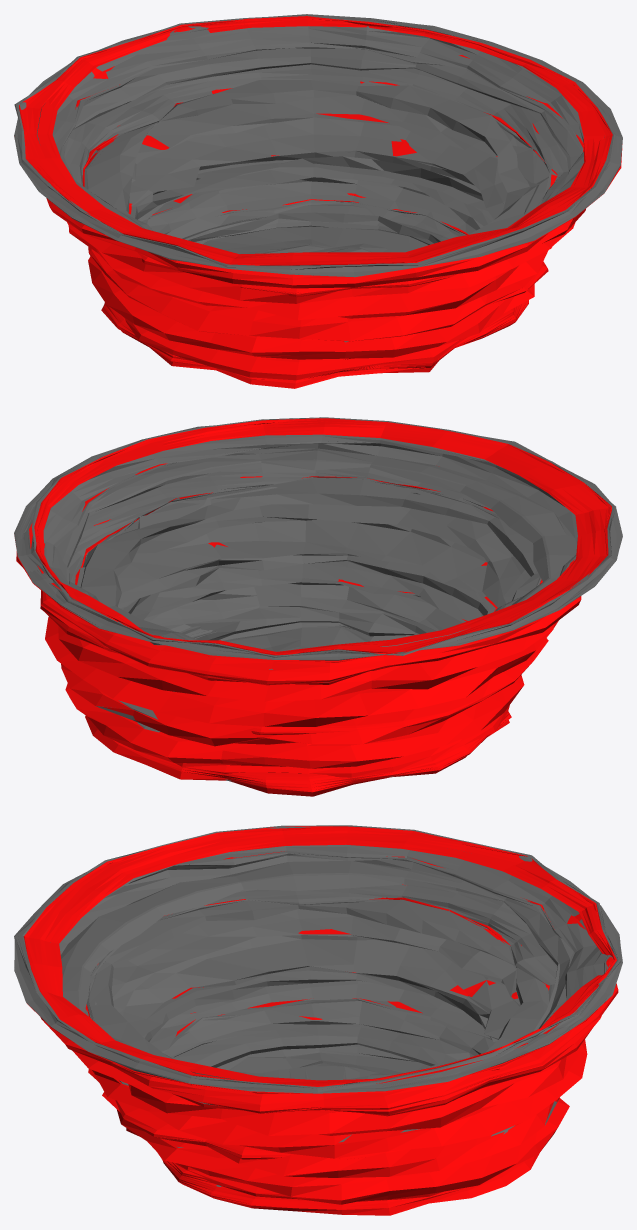
The model's file is crush_high_1.obj.
3 views of the same model, one above another, from view 1: azimuth 30°, elevation 25°; view 2: azimuth 150°, elevation 25°; view 3: azimuth 270°, elevation 25° (orthographic).
Visible parts, largest first — view 1: model; view 2: model; view 3: model.
Part boxes in pixels (x1,y1,x2,y2): model: [14, 14, 622, 388]; model: [14, 417, 622, 796]; model: [14, 825, 622, 1215].
Size of the model in its own units: 0.0919 by 0.0293 by 0.0914.
1 material, 1 textured.
